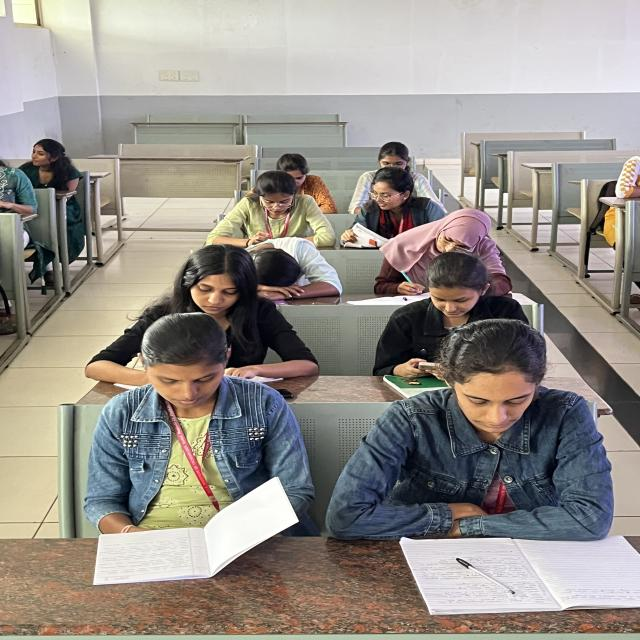Reading: (364, 364, 640, 617), (108, 229, 296, 389)
Sleeping: (234, 224, 340, 310)
Using Phone: (359, 260, 544, 391)
Writing: (362, 207, 525, 298)
